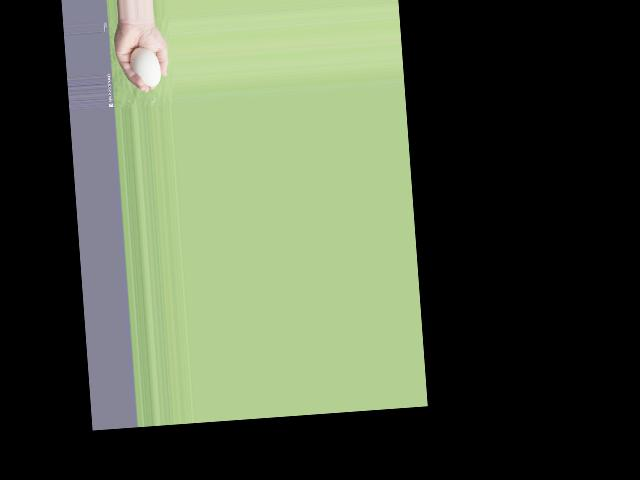egg: (128, 44, 161, 87)
